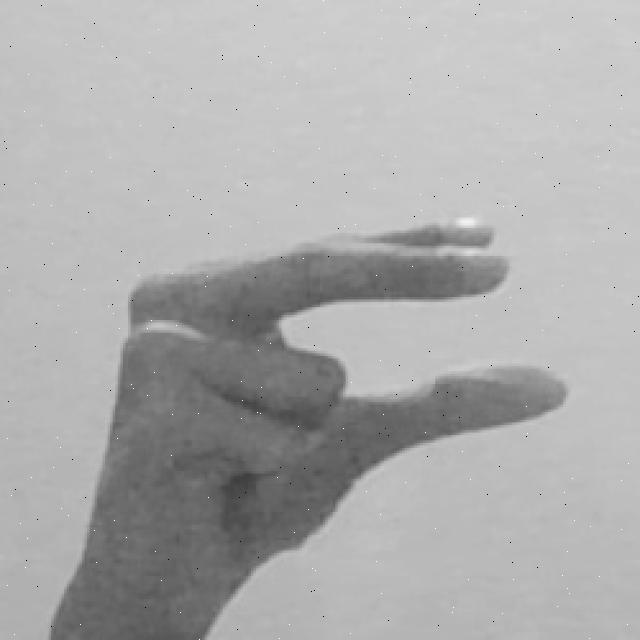G: (46, 210, 574, 640)
